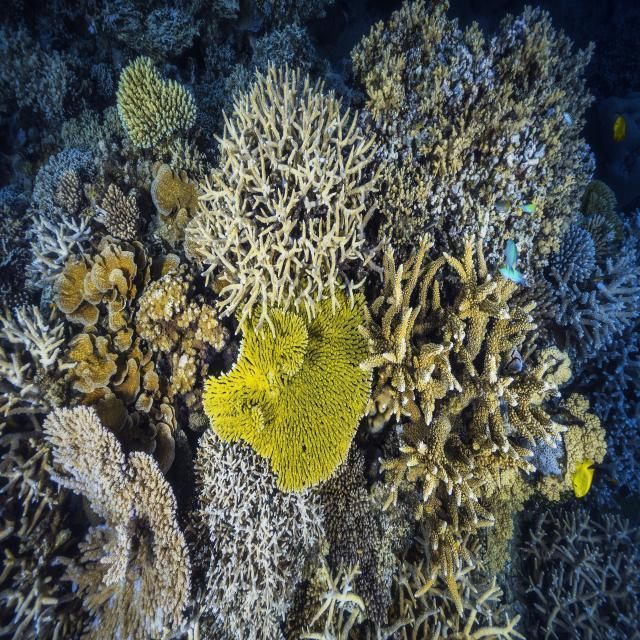Bleached Coral: (199, 431, 312, 638)
Healthy Coral: (380, 249, 539, 595), (191, 57, 374, 316), (35, 401, 194, 637), (217, 304, 370, 482), (55, 246, 147, 406), (134, 253, 229, 399), (114, 66, 199, 131), (99, 175, 149, 255)
